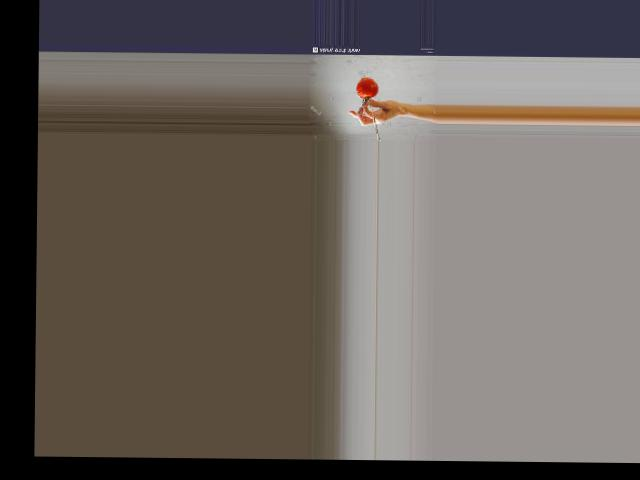tomato: (357, 76, 379, 97)
